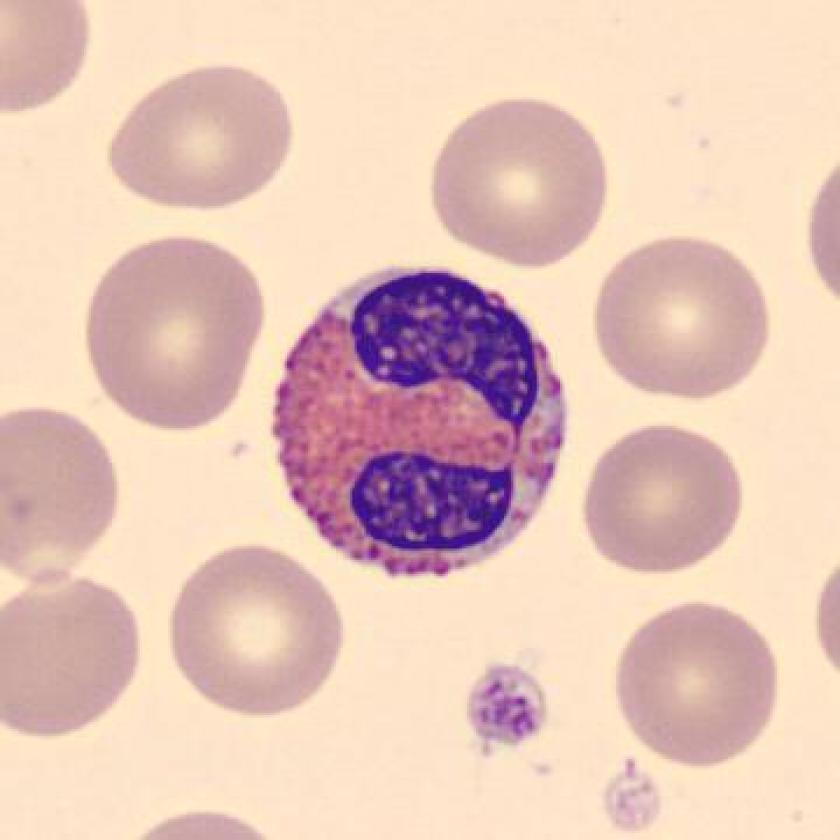eosinophil: (256, 254, 585, 601)
